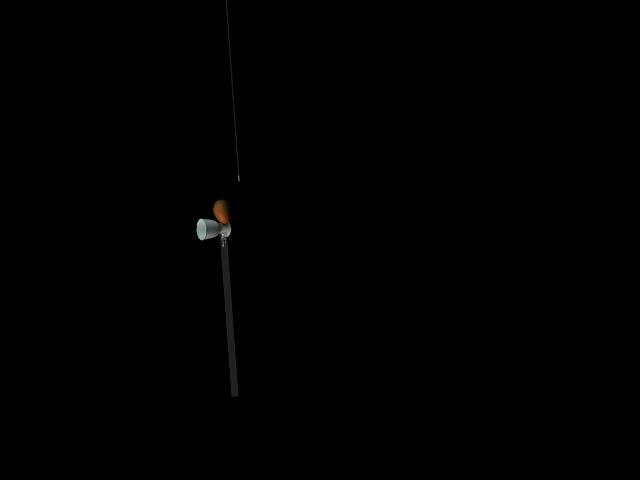egg: (212, 199, 231, 224)
